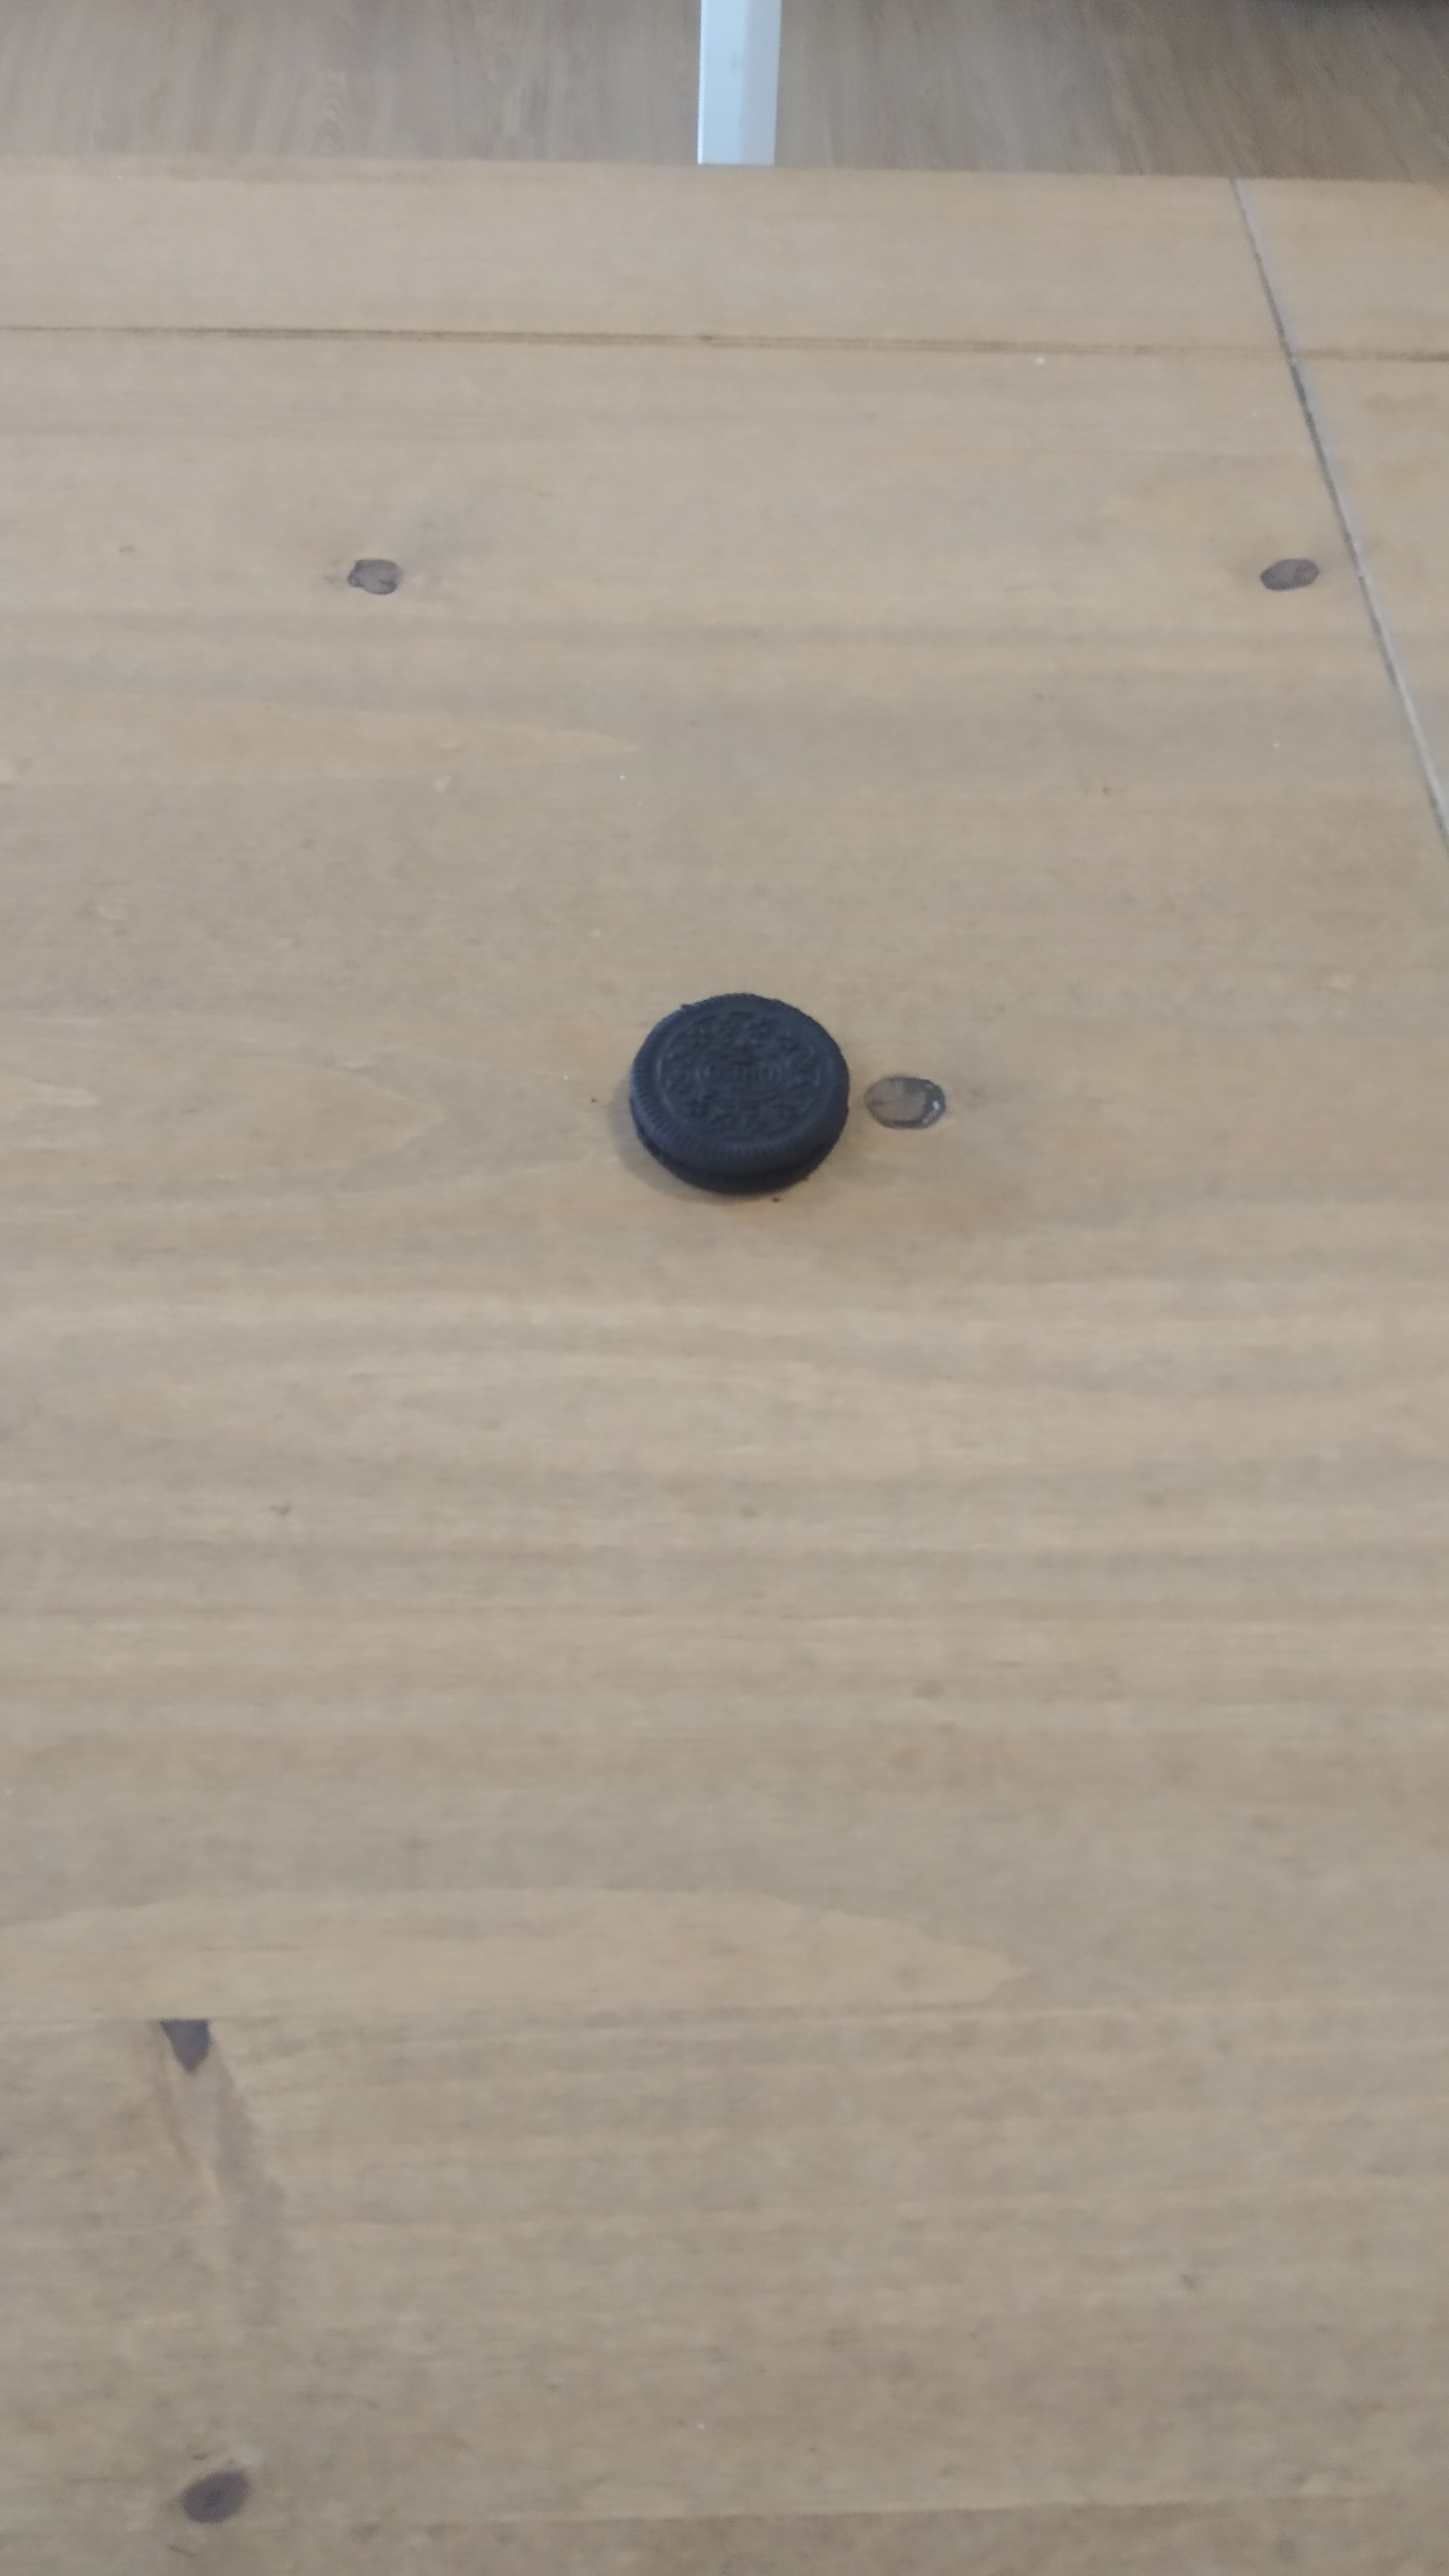oreo: (630, 993, 849, 1192)
